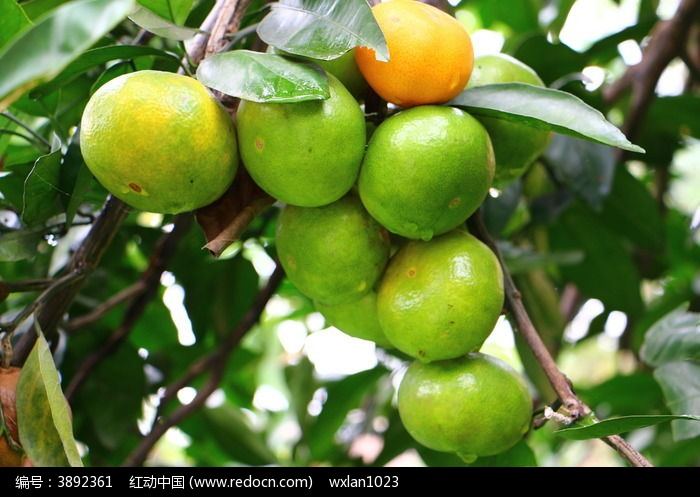orange: (81, 68, 238, 214), (236, 61, 367, 205), (359, 107, 495, 238), (375, 227, 501, 361), (398, 352, 532, 456), (276, 183, 390, 304), (353, 1, 472, 103), (314, 224, 416, 341)
